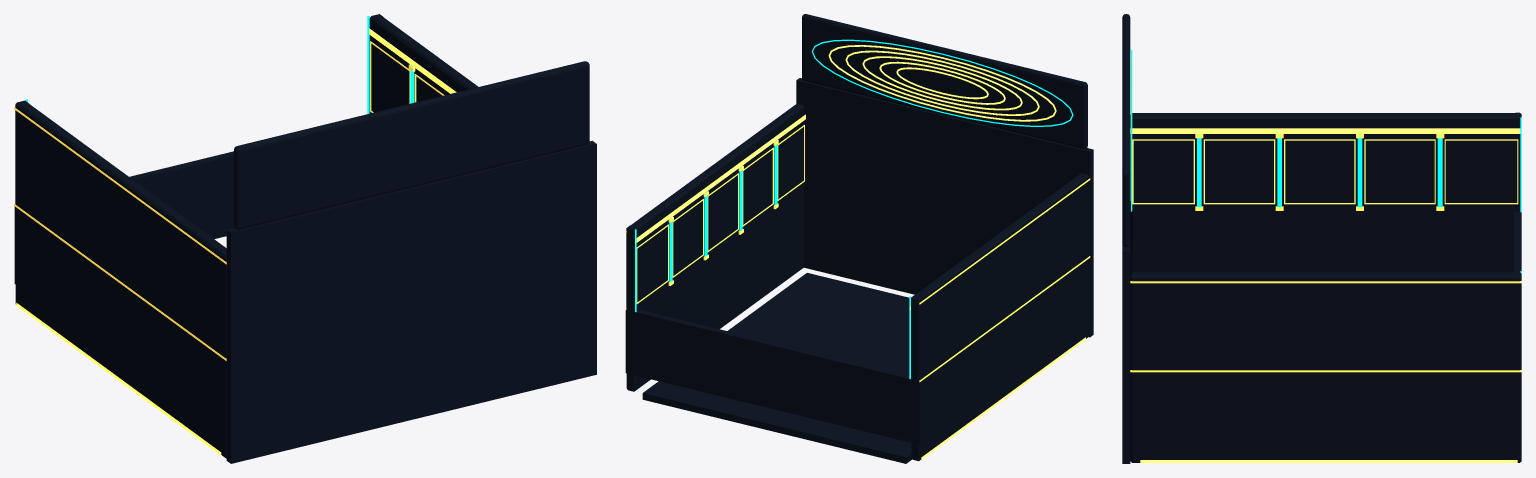
File: cabinet.glb
3 views of the same model, side by side, from view 1: azimuth 30°, elevation 25°; view 2: azimuth 150°, elevation 25°; view 3: azimuth 270°, elevation 25° (orthographic). The views are drawn at different scales.
Visible parts, largest first — view 1: back_shell, shell_side_L, marquee_panel, front_panel_lower, shell_side_R, plinth_glow_L, trim_gold_rail_hi_L, trim_gold_rail_lo_L, wall_rail_R; view 2: back_shell, shell_side_L, shell_side_R, front_panel_lower, plinth, marquee_panel, marquee_ring_g1, marquee_ring_teal, marquee_ring_g2, wall_rail_R, marquee_ring_g3, front_bezel_L (+3 smaller); view 3: shell_side_R, shell_side_L, wall_rail_L, marquee_panel, back_shell, trim_gold_rail_hi_R, trim_gold_rail_lo_R, plinth_glow_R, front_panel_lower, front_bezel_R, wall_frame_1_L, wall_frame_4_L (+6 smaller).
Part boxes in pixels (<box>): back_shell: <box>226,140,596,463</box>; shell_side_L: <box>15,101,226,458</box>; marquee_panel: <box>234,61,589,229</box>; front_panel_lower: <box>14,151,234,286</box>; shell_side_R: <box>370,14,478,112</box>; plinth_glow_L: <box>16,302,221,455</box>; trim_gold_rail_hi_L: <box>14,107,226,264</box>; trim_gold_rail_lo_L: <box>14,204,226,360</box>; wall_rail_R: <box>369,28,456,93</box>; back_shell: <box>796,78,1093,337</box>; shell_side_L: <box>911,173,1089,461</box>; shell_side_R: <box>626,103,804,391</box>; front_panel_lower: <box>625,309,922,444</box>; plinth: <box>642,273,912,463</box>; marquee_panel: <box>802,14,1087,149</box>; marquee_ring_g1: <box>828,45,1056,121</box>; marquee_ring_teal: <box>811,39,1073,126</box>; marquee_ring_g2: <box>845,50,1039,115</box>; wall_rail_R: <box>635,114,805,243</box>; marquee_ring_g3: <box>862,56,1022,110</box>; front_bezel_L: <box>911,295,922,442</box>; shell_side_R: <box>1130,272,1521,462</box>; shell_side_L: <box>1130,113,1519,273</box>; wall_rail_L: <box>1130,128,1520,133</box>; marquee_panel: <box>1122,14,1130,247</box>; back_shell: <box>1122,244,1130,463</box>; trim_gold_rail_hi_R: <box>1130,281,1521,283</box>; trim_gold_rail_lo_R: <box>1130,370,1521,372</box>; plinth_glow_R: <box>1140,460,1517,462</box>; front_panel_lower: <box>1513,211,1521,443</box>; front_bezel_R: <box>1515,272,1521,442</box>; wall_frame_1_L: <box>1444,139,1518,204</box>; wall_frame_4_L: <box>1203,139,1275,204</box>.
Size of the model in its own units: 9.72 by 8.16 by 9.95.
